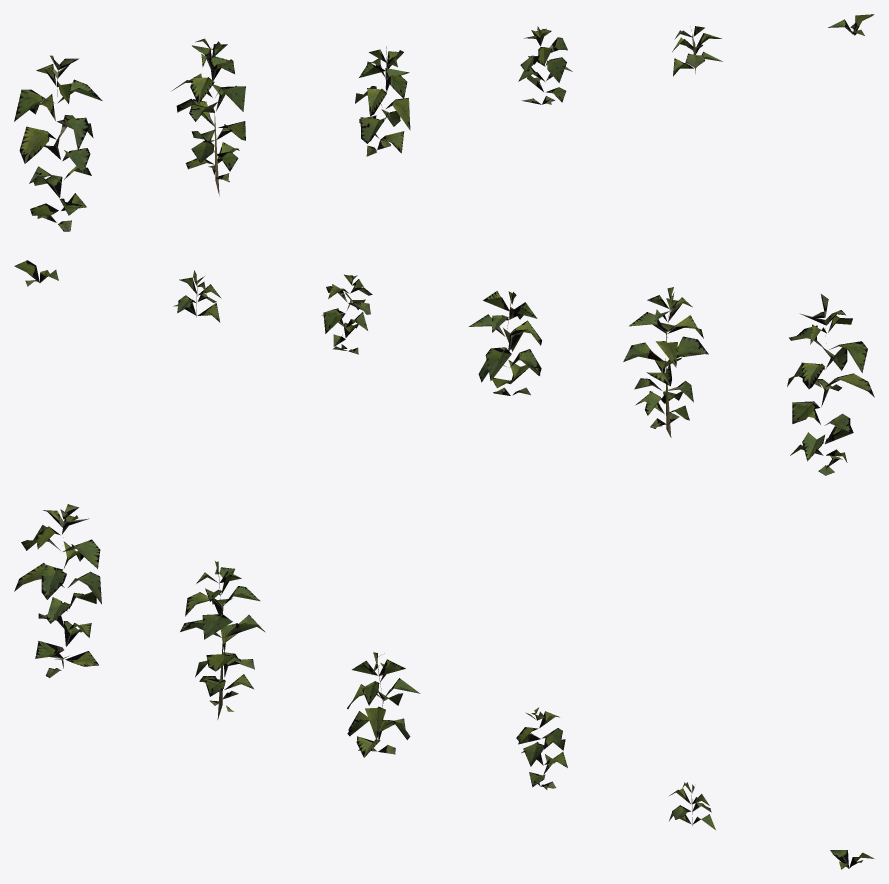
File: nettle_plant.glb
3 renders of one model, top to bottom at view 1: azimuth 30°, elevation 25°; view 2: azimuth 150°, elevation 25°; view 3: azimuth 330°, elevation 25°, orthographic.
Parts seen in each view (by area): view 1: nettle_plant_medium_a_LOD0; view 2: nettle_plant_medium_a_LOD0; view 3: nettle_plant_medium_a_LOD0.
Part boxes in pixels (box(x1,y1,x2,y2)): nettle_plant_medium_a_LOD0: box(14, 14, 874, 231); nettle_plant_medium_a_LOD0: box(14, 260, 874, 475); nettle_plant_medium_a_LOD0: box(14, 504, 874, 869).
Bounding box in the file's own units: 1.08 × 0.2138 × 0.0946.
Materials: 1 (1 with a texture image).
